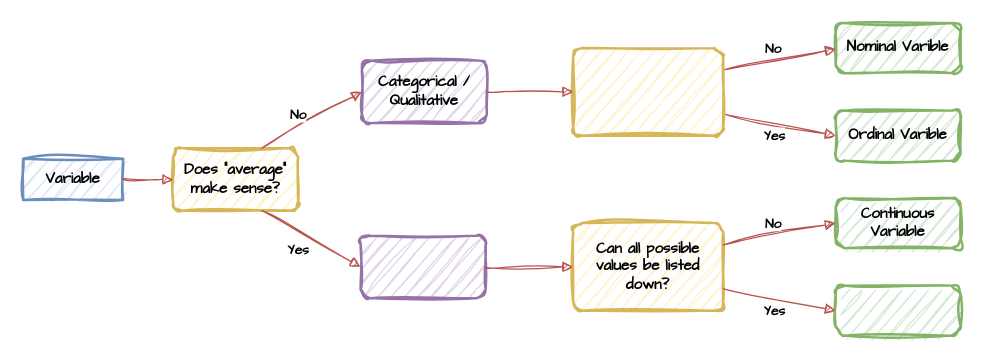
The diagram is 983 pixels wide and 358 high, and some of its shapes have lost their labels. The shapes that lost their labels are listed below. From the top down, each one's centre as x and y in pixels, then its label:
(x=647, y=91): Is there any natural ordering among categories?
(x=422, y=266): Numerical / Quantitative
(x=897, y=310): Discrete Variable
